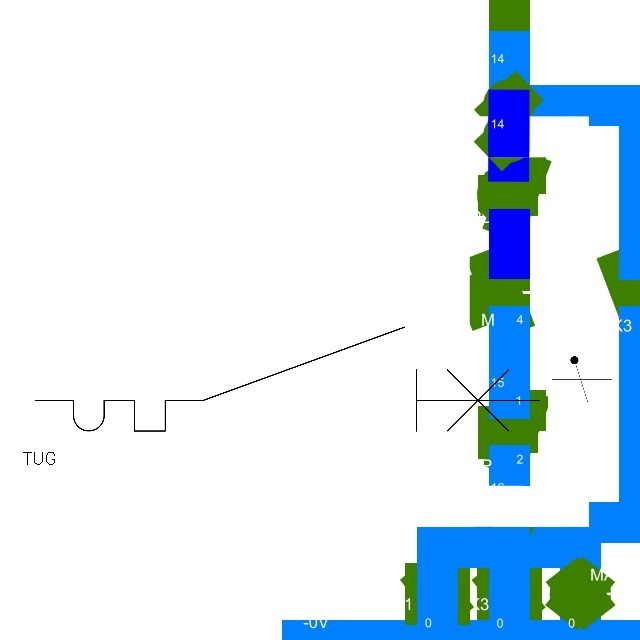interruptor_termomagnetico: (22, 314, 552, 444)
